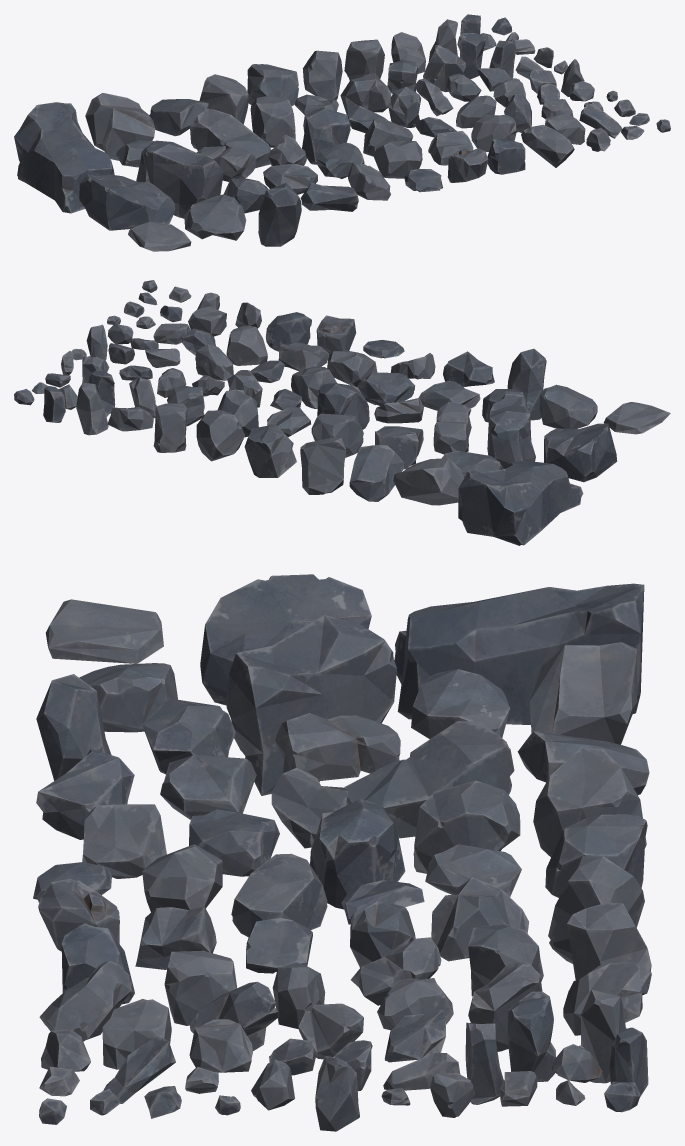
File: rocks70.glb
The picture shows the model from 3 angles, top to bottom: view 1: azimuth 30°, elevation 25°; view 2: azimuth 150°, elevation 25°; view 3: azimuth 270°, elevation 25°; orthographic projection. The views are drawn at different scales.
Parts seen in each view (by area): view 1: Object_71, Object_66, Object_70, Object_68, Object_60, Object_62, Object_65, Object_53, Object_55, Object_54, Object_49, Object_57 (+44 smaller); view 2: Object_71, Object_70, Object_66, Object_68, Object_61, Object_57, Object_54, Object_65, Object_49, Object_62, Object_64, Object_53 (+42 smaller); view 3: Object_71, Object_66, Object_70, Object_68, Object_60, Object_53, Object_64, Object_57, Object_55, Object_69, Object_47, Object_51 (+52 smaller).
Boxes of the visible parts, <box> form: Object_71: <box>14,102,114,213</box>; Object_66: <box>136,140,223,218</box>; Object_70: <box>79,174,175,230</box>; Object_68: <box>85,93,155,160</box>; Object_60: <box>190,109,271,168</box>; Object_62: <box>258,182,301,246</box>; Object_65: <box>184,194,246,240</box>; Object_53: <box>302,108,350,164</box>; Object_55: <box>250,95,295,147</box>; Object_54: <box>247,64,298,106</box>; Object_49: <box>302,50,342,100</box>; Object_57: <box>199,74,248,124</box>; Object_71: <box>458,461,583,545</box>; Object_70: <box>544,423,617,482</box>; Object_66: <box>487,393,535,469</box>; Object_68: <box>393,458,464,505</box>; Object_61: <box>349,445,404,501</box>; Object_57: <box>300,438,346,494</box>; Object_54: <box>244,425,296,477</box>; Object_65: <box>539,384,597,428</box>; Object_49: <box>196,410,244,461</box>; Object_62: <box>507,348,546,420</box>; Object_64: <box>433,401,471,454</box>; Object_53: <box>317,383,369,429</box>; Object_71: <box>394,583,644,724</box>; Object_66: <box>226,615,396,795</box>; Object_70: <box>200,574,371,705</box>; Object_68: <box>529,642,637,744</box>; Object_60: <box>344,721,514,838</box>; Object_53: <box>310,799,405,909</box>; Object_64: <box>275,713,400,781</box>; Object_57: <box>533,747,646,857</box>; Object_55: <box>413,780,520,873</box>; Object_69: <box>45,599,163,663</box>; Object_47: <box>231,853,327,937</box>; Object_51: <box>82,804,166,878</box>.
Bounding box in the file's own units: 18.65 × 2.23 × 9.57.
70 materials, 70 textured.
